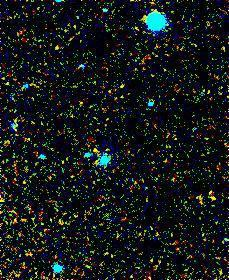star: (81, 135, 111, 165)
